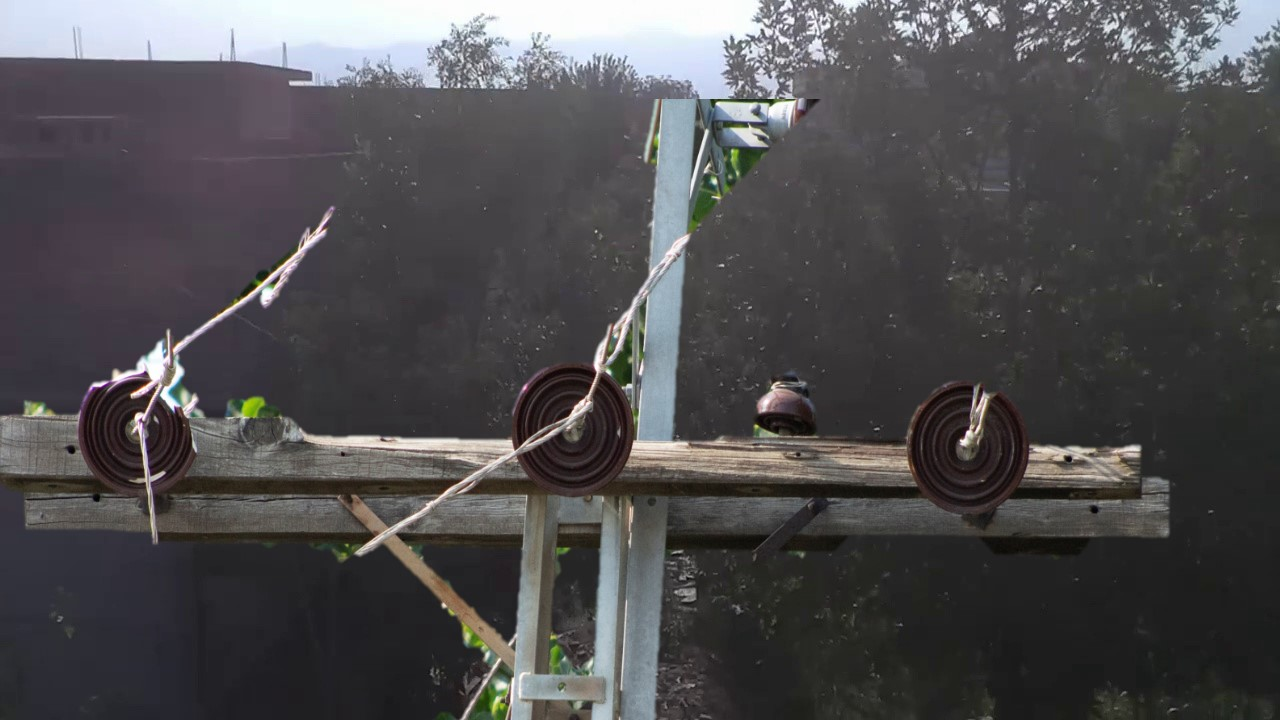defect_disc: (74, 360, 207, 504)
insulator_disc: (901, 370, 1033, 525), (507, 358, 635, 503)
insulator_pin: (754, 368, 820, 437)
